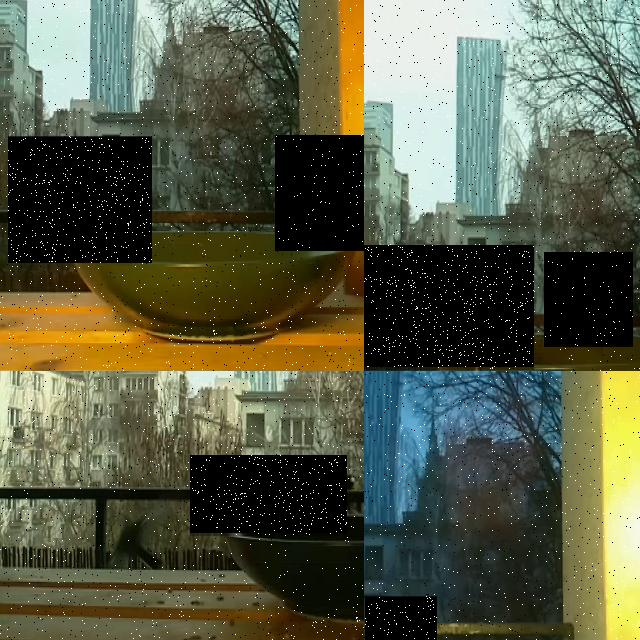Bogatka: (364, 245, 534, 369), (275, 135, 364, 251), (365, 596, 437, 640)
Wrobel: (8, 136, 152, 263), (190, 456, 347, 536), (544, 252, 633, 347)
